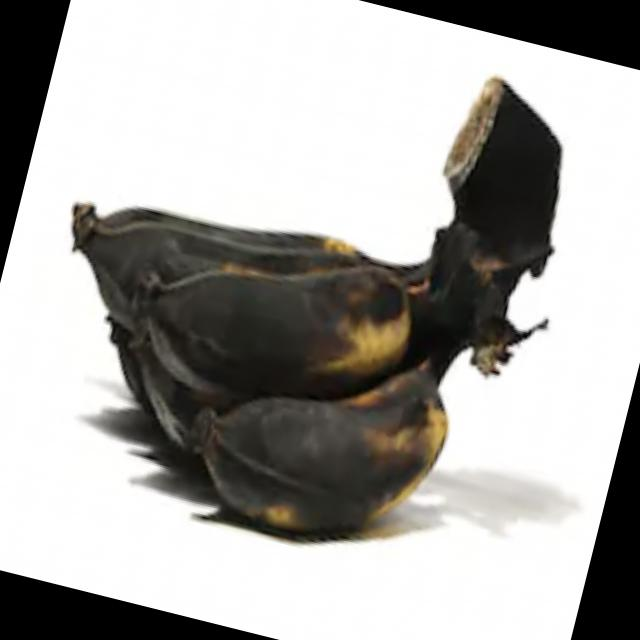rotten-banana: (127, 213, 429, 425), (194, 356, 466, 582)
